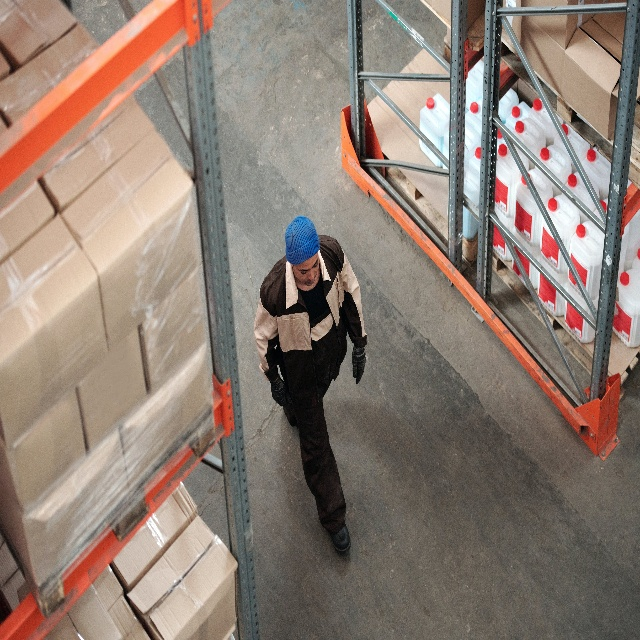Guantes: (271, 373, 291, 407), (351, 342, 367, 384)
